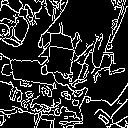cube: (42, 40, 75, 81)
